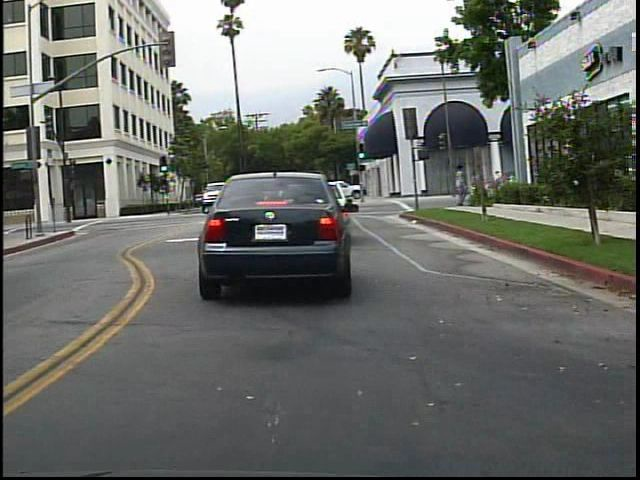person: (443, 161, 471, 210)
